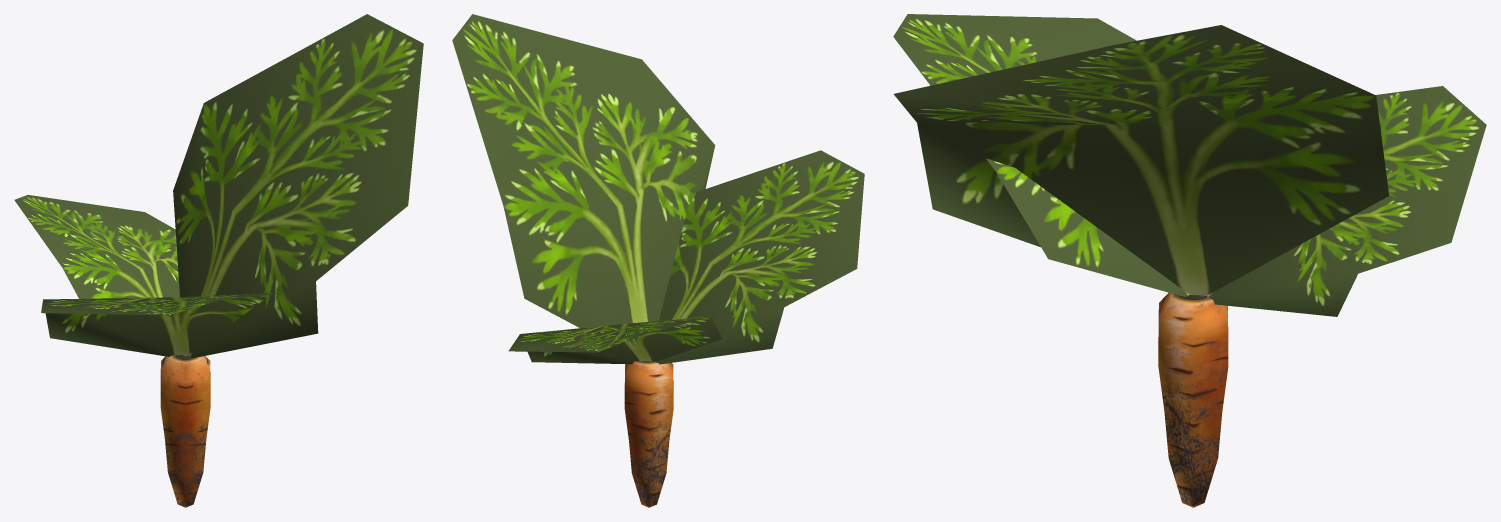
The model's file is plant_carrot_S2.fbx.
3 views of the same model, side by side, from view 1: azimuth 30°, elevation 25°; view 2: azimuth 150°, elevation 25°; view 3: azimuth 270°, elevation 25° (orthographic). The views are drawn at different scales.
Visible parts, largest first — view 1: plant_carrot_S2; view 2: plant_carrot_S2; view 3: plant_carrot_S2.
Boxes of the visible parts, x1,y1,x2,y2 form: plant_carrot_S2: [14, 14, 423, 507]; plant_carrot_S2: [452, 14, 864, 507]; plant_carrot_S2: [893, 14, 1486, 507].
Bounding box in the file's own units: 44.74 × 48.4 × 42.43.
